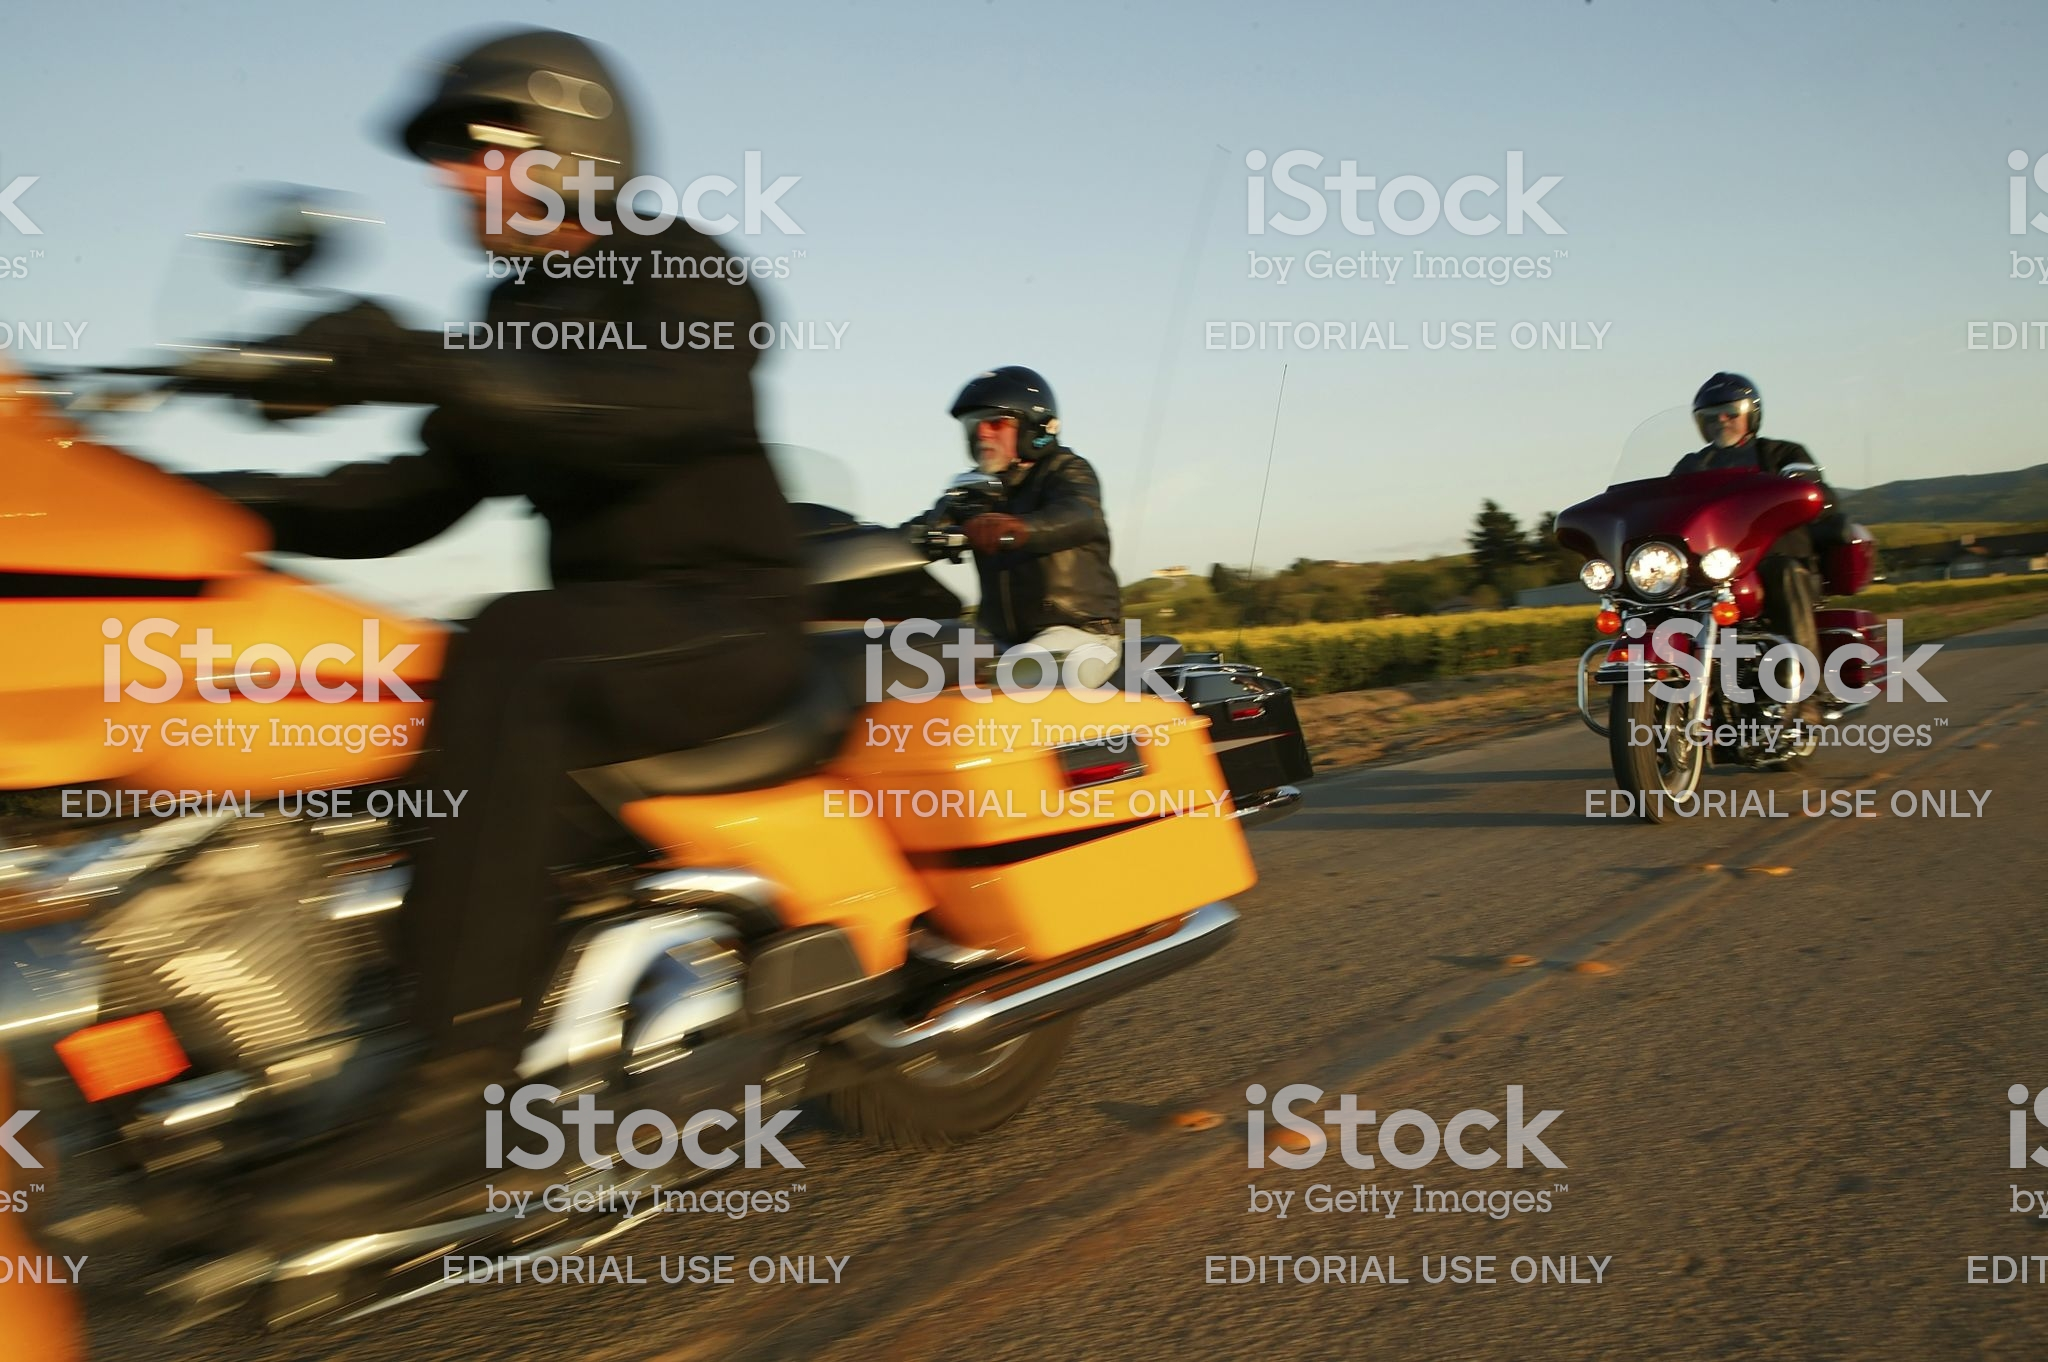helmet: (421, 21, 653, 176), (947, 354, 1065, 451), (1689, 371, 1775, 438)
